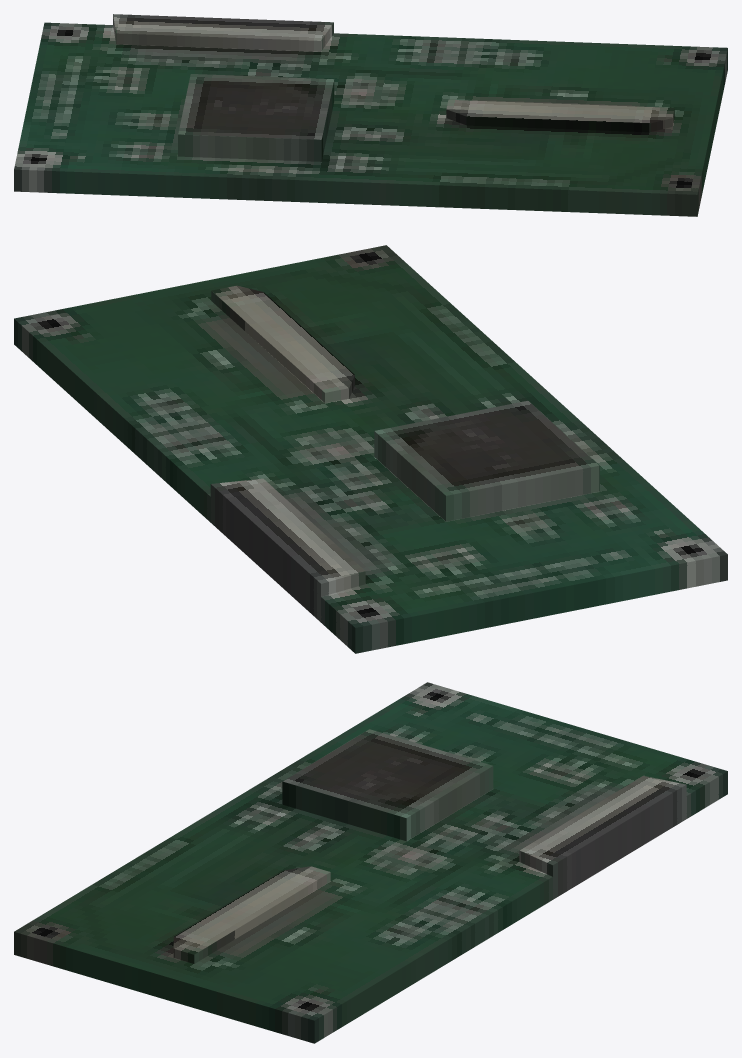
File: pcb_5.glb
3 renders of one model, top to bottom at view 1: azimuth 30°, elevation 25°; view 2: azimuth 150°, elevation 25°; view 3: azimuth 270°, elevation 25°, orthographic. The views are drawn at different scales.
Parts seen in each view (by area): view 1: pcb_5; view 2: pcb_5; view 3: pcb_5.
Part boxes in pixels (box(x1,y1,x2,y2)): pcb_5: box(14, 14, 727, 216); pcb_5: box(14, 245, 727, 653); pcb_5: box(14, 682, 727, 1043).
Bounding box in the file's own units: 0.1572 × 0.01 × 0.1401.
Materials: 1 (1 with a texture image).
